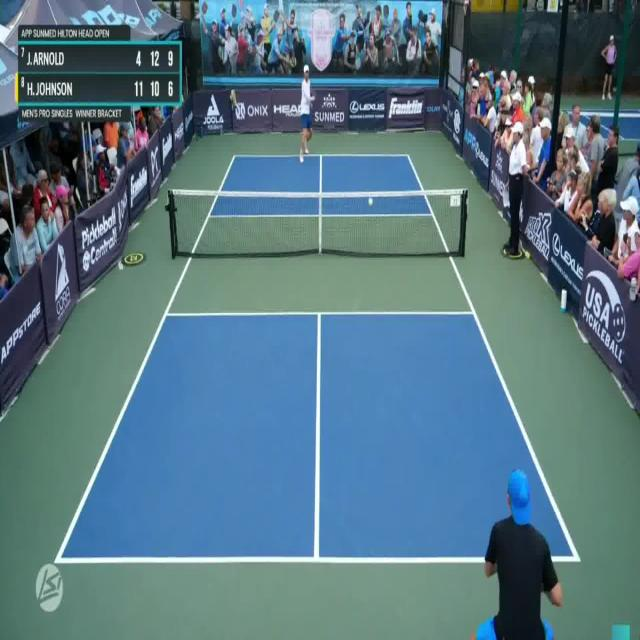Court: (56, 156, 579, 561)
ball: (367, 192, 375, 211)
